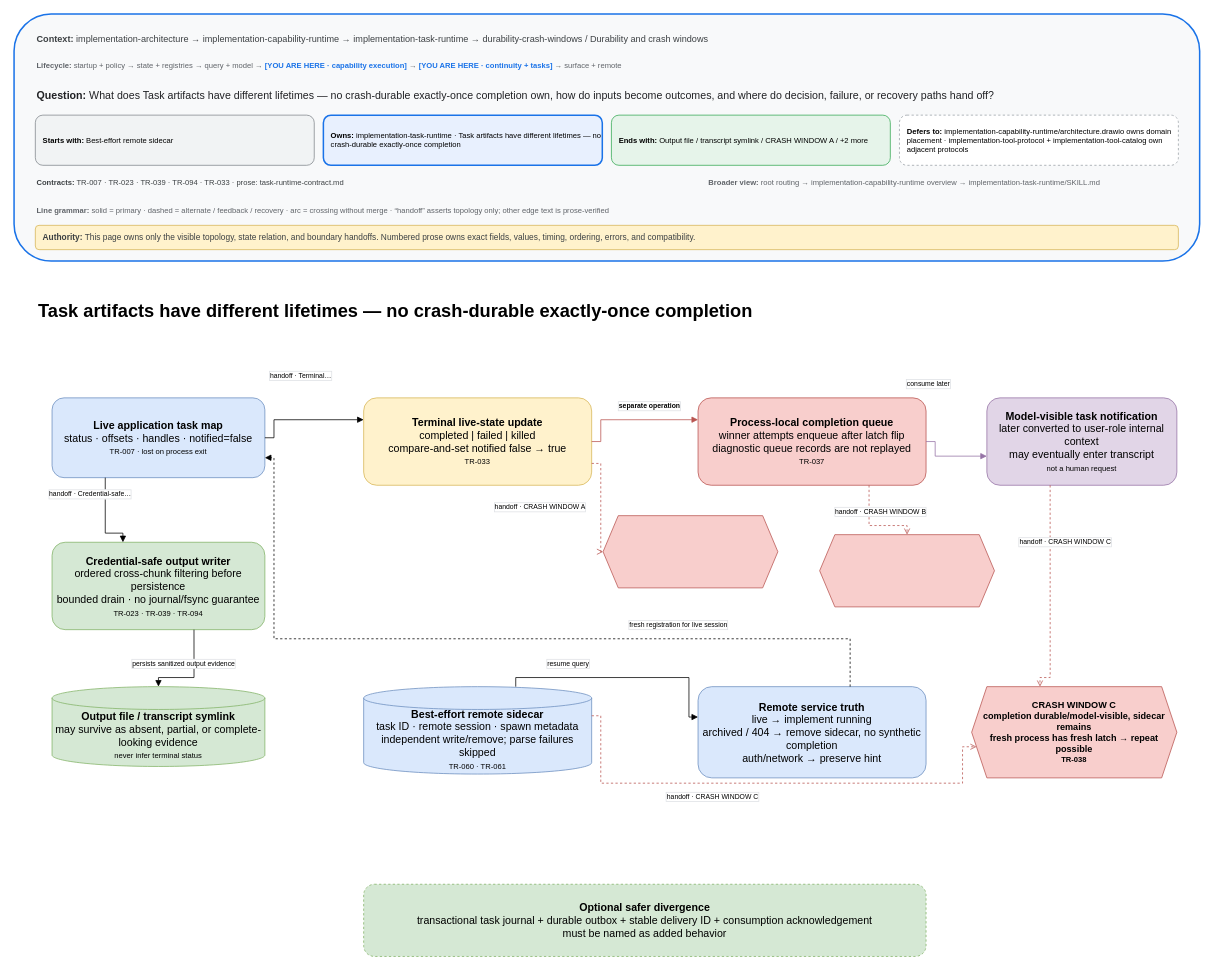
The diagram is 1213 pixels wide and 970 high, and some of its shapes have lost their labels. Here are the shapes that lost their labels. From the top down, the box of each, then its label:
(13, 13, 1200, 261): CUSTOM DIAGRAM CONTEXT · v2.1
(602, 515, 778, 588): CRASH WINDOW A after latch flip, before enqueue → missing completion
(819, 534, 994, 607): CRASH WINDOW B after enqueue, before consumption → in-memory item lost
